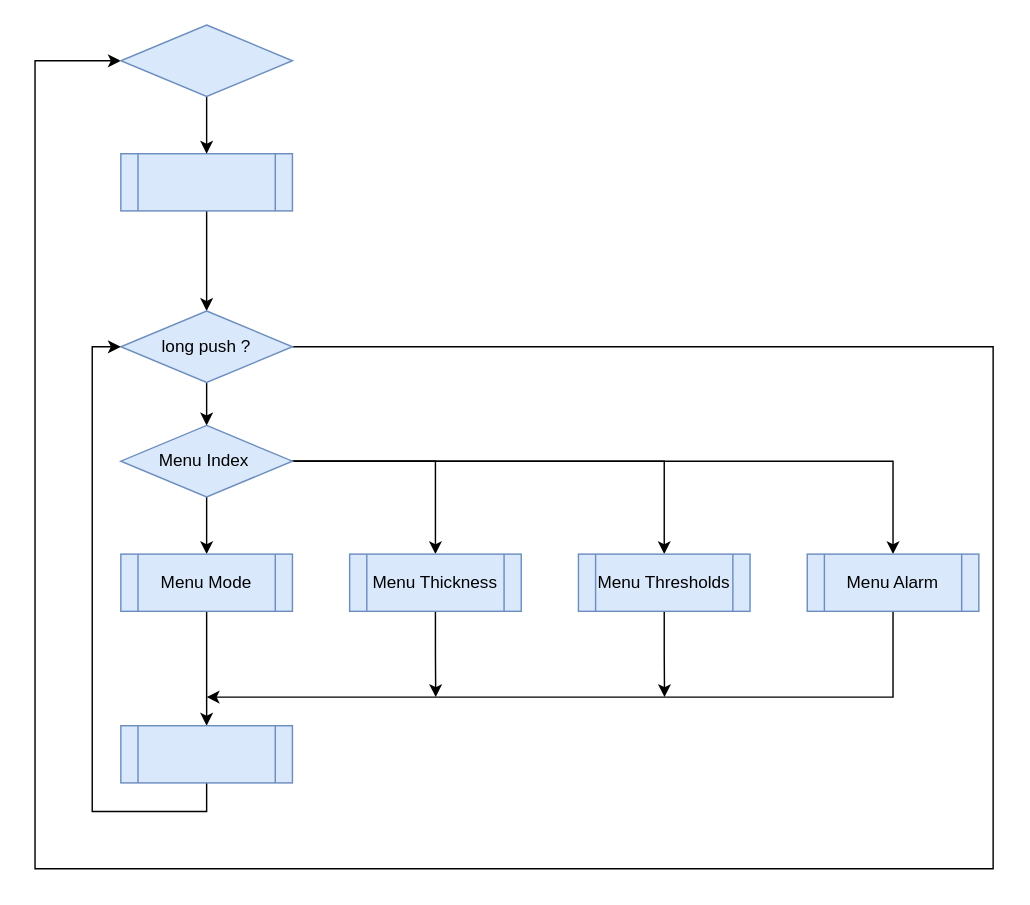
Some shapes in this 1030 by 905 pixel diagram are drawn without their labels. Each missing label, with the centre of its shape:
Home Screen: point (205, 181)
Loop: point (205, 60)
Save config: point (205, 753)
